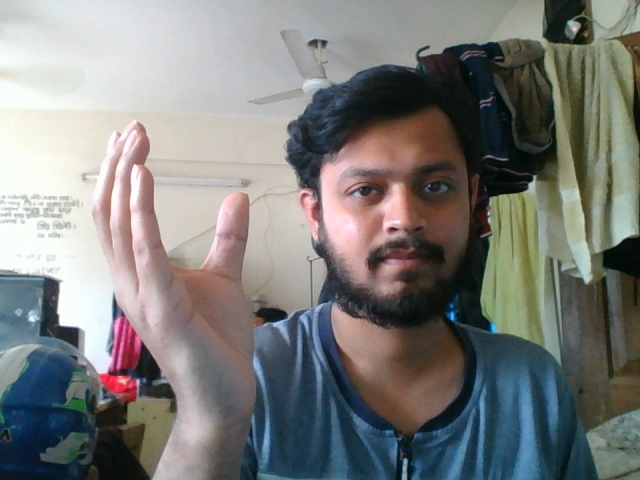o: (90, 111, 273, 464)
